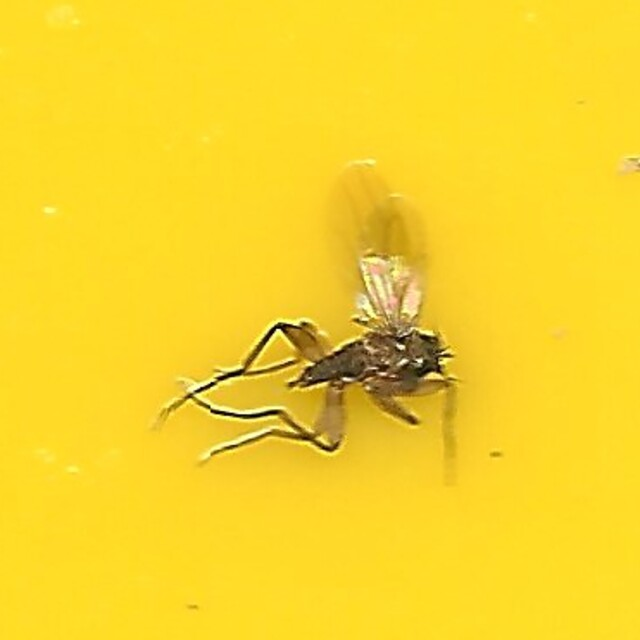Nematocera: (173, 161, 467, 479)
